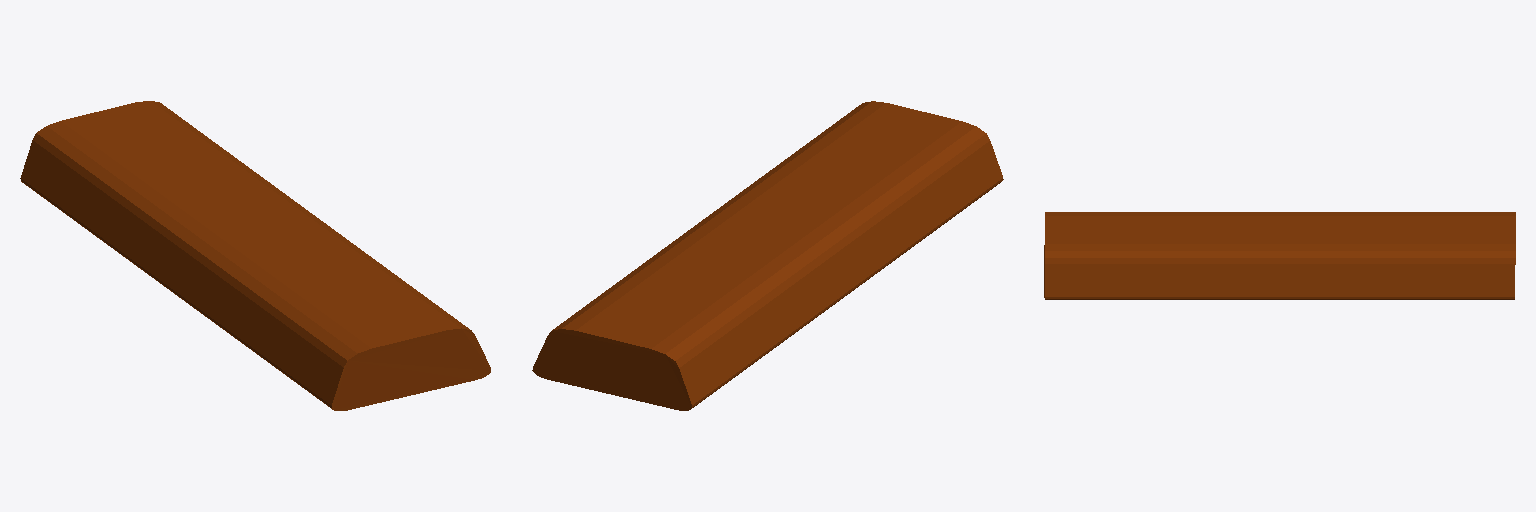
robot.urdf — strawberry_plant:
<?xml version="1.0"?>
<robot name="strawberry_plant">
  <!-- 基座 -->
  <link name="ridge">
    <visual>
      <material name="brown">
        <color rgba="0.545 0.271 0.075 1"/>
      </material>
      <origin xyz="0.0355 -0.25279 -0.28295"/> <!-- 根据缩放调整位置 -->
      <geometry>
        <mesh filename="first_straw_ridge.stl" scale="0.05 0.05 0.05"/>
      </geometry>
    </visual>
    <collision>
      <origin xyz="0.0355 -0.25279 -0.28295"/> <!-- 根据缩放调整位置 -->
      <geometry>
        <mesh filename="first_straw_ridge.stl" scale="0.05 0.05 0.05"/>
      </geometry>
    </collision>
    <inertial>
      <mass value="100.0"/>
      <inertia ixx="0.1" ixy="0.0" ixz="0.0" iyy="0.1" iyz="0.0" izz="0.1"/>
    </inertial>
  </link>

</robot>

--- Facts derived from the render (not from the file) ---
Views: 3 orthographic renders of the robot side by side, from view 1: azimuth 30°, elevation 25°; view 2: azimuth 150°, elevation 25°; view 3: azimuth 270°, elevation 25°.
Robot: strawberry_plant — 1 links, 0 joints (none); root link ridge; default pose: every joint at zero.
Links seen in each view (by area): view 1: ridge; view 2: ridge; view 3: ridge.
Boxes of the visible links, box(x1,y1,x2,y2) form: ridge: box(20, 101, 490, 410); ridge: box(532, 101, 1003, 410); ridge: box(1044, 212, 1515, 299).
Bounding box of the posed robot: 0.9351 × 3.16 × 0.3156 m (x, y, z).
Meshes: 1 distinct files referenced, 1 mesh visuals loaded (1 binary STL).
